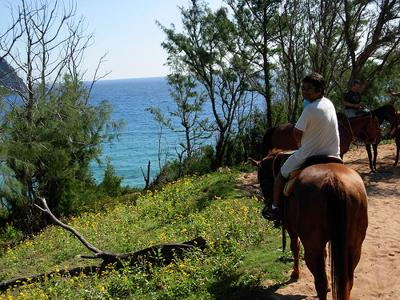person: (262, 71, 342, 217)
